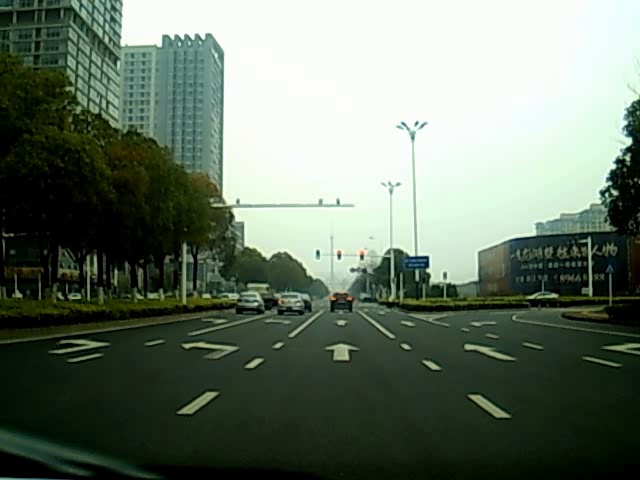Traffic_Light_stop: (336, 250, 343, 263), (359, 250, 365, 262)
